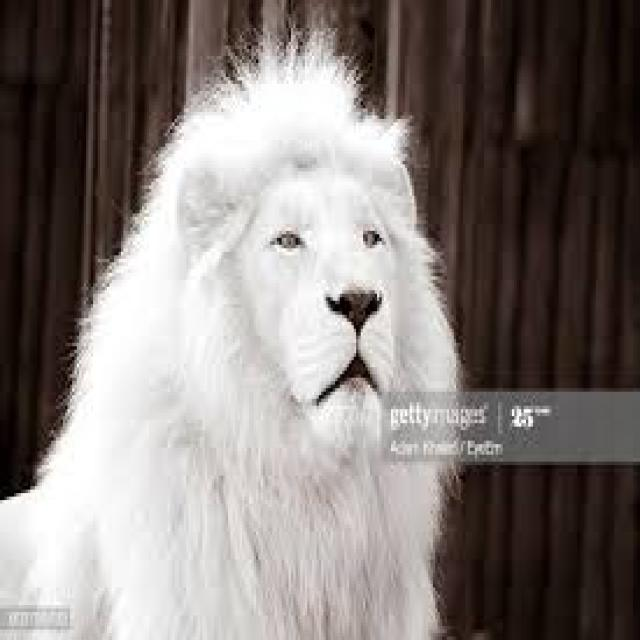Lion: (0, 36, 469, 634)
